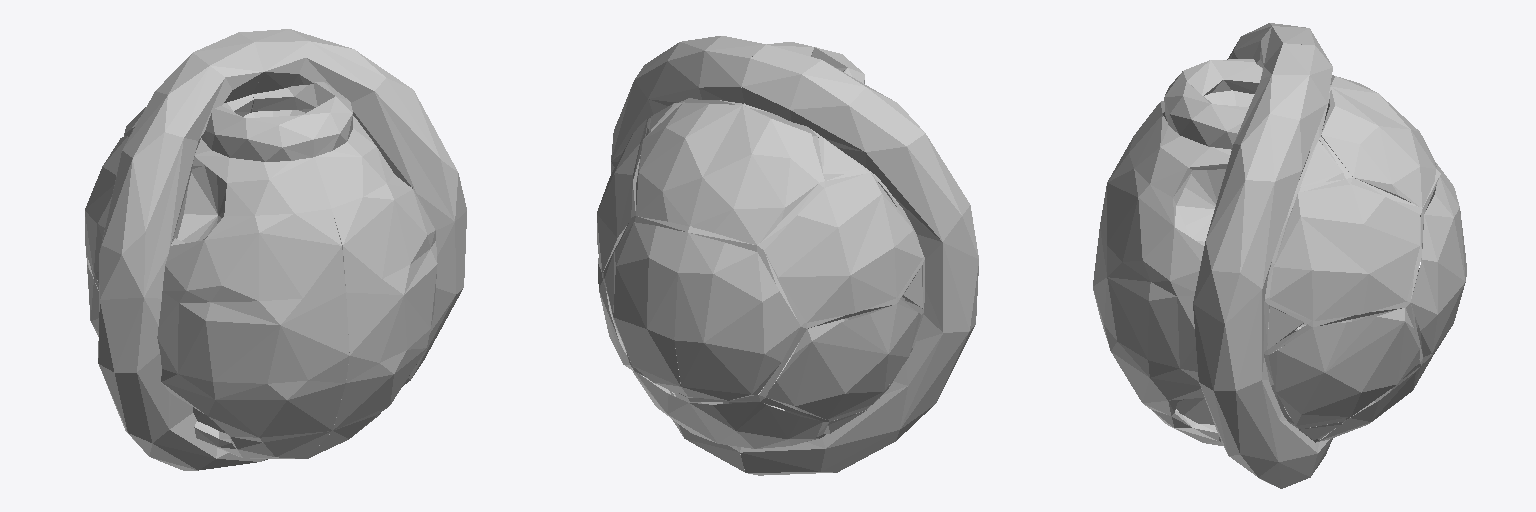
File: Shell_LOD3.obj
3 renders of one model, left to right at view 1: azimuth 30°, elevation 25°; view 2: azimuth 150°, elevation 25°; view 3: azimuth 270°, elevation 25°, orthographic.
Visible parts, largest first — view 1: greenshellShape; view 2: greenshellShape; view 3: greenshellShape.
Part boxes in pixels (x1,y1,x2,y2): greenshellShape: (85, 29, 466, 470); greenshellShape: (597, 36, 978, 475); greenshellShape: (1093, 23, 1466, 488).
Size of the model in its own units: 0.1827 by 0.2022 by 0.1614.